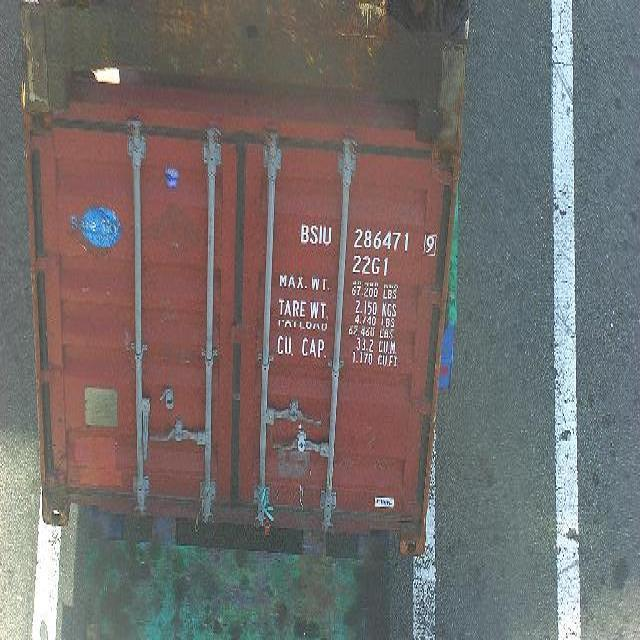ISO: (352, 254, 388, 276)
container_number: (298, 218, 438, 256)
